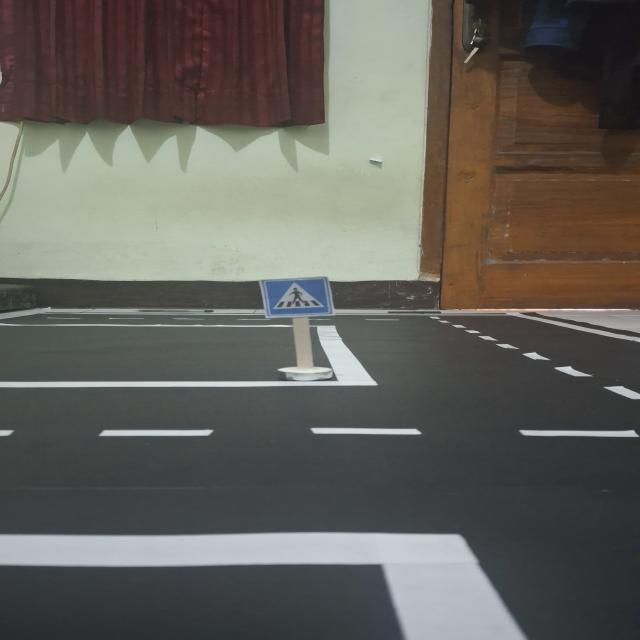Rambu Penyebrangan: (260, 276, 333, 316)
